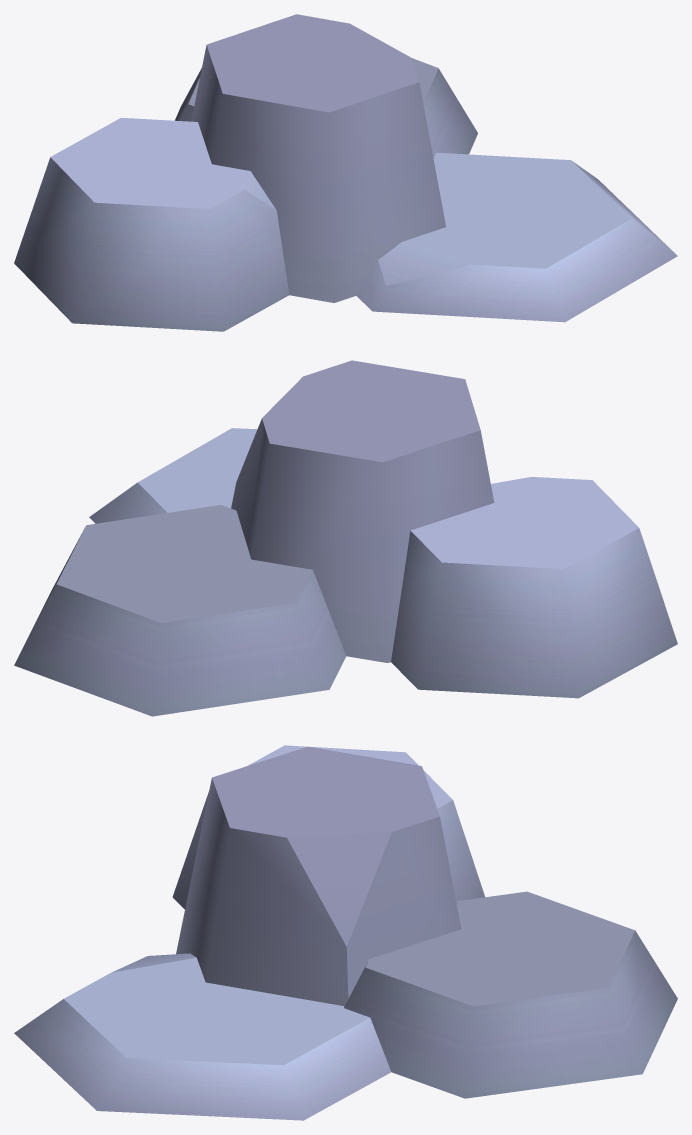
Rendered from td-rocks.glb.
3 renders of one model, top to bottom at view 1: azimuth 30°, elevation 25°; view 2: azimuth 150°, elevation 25°; view 3: azimuth 270°, elevation 25°, orthographic. The views are drawn at different scales.
Parts seen in each view (by area): view 1: detail-rocks; view 2: detail-rocks; view 3: detail-rocks.
Boxes of the visible parts, x1,y1,x2,y2 form: detail-rocks: (14,14,677,331); detail-rocks: (14,360,677,716); detail-rocks: (14,745,677,1120).
Size of the model in its own units: 0.5976 by 0.1844 by 0.6055.
Materials: 1 (1 with a texture image).
